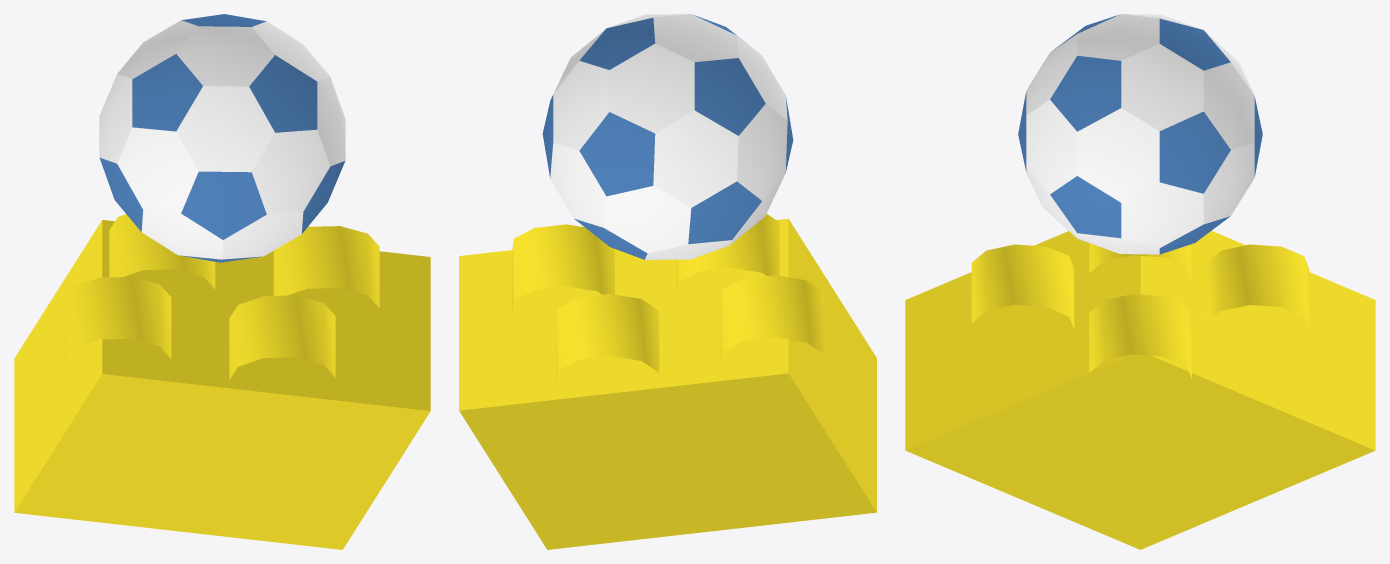
The model's file is ps2_save-icons_footballmania.glb.
3 renders of one model, left to right at view 1: azimuth 30°, elevation 25°; view 2: azimuth 150°, elevation 25°; view 3: azimuth 270°, elevation 25°, orthographic. The views are drawn at different scales.
Visible parts, largest first — view 1: iconcopy.icn; view 2: iconcopy.icn; view 3: iconcopy.icn.
Part boxes in pixels (left/top/right/bottom): iconcopy.icn: left=14, top=14, right=430, bottom=549; iconcopy.icn: left=459, top=14, right=876, bottom=549; iconcopy.icn: left=905, top=14, right=1375, bottom=549.
Bounding box in the file's own units: 4.6 × 4.59 × 4.6.
Materials: 1 (1 with a texture image).
